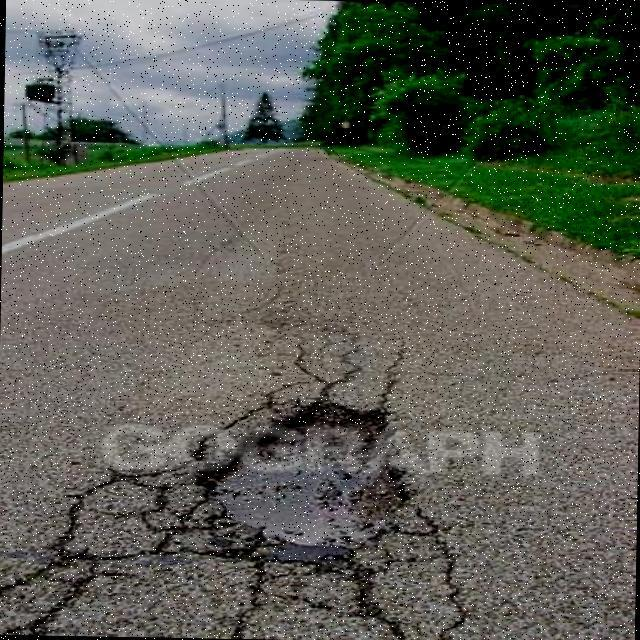Pothole: (179, 400, 407, 564)
